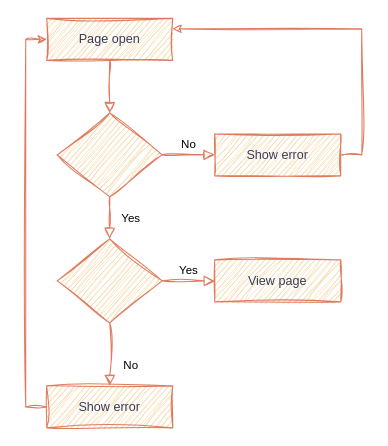
Image size: 388x446. Some labels were removed from this diagram. The shapes that lost their labels are listed below. From the top down, each one's centre as x and y in pixels, then its label:
At pixel 109 154: "Correct link".
At pixel 109 280: "Open page link".
